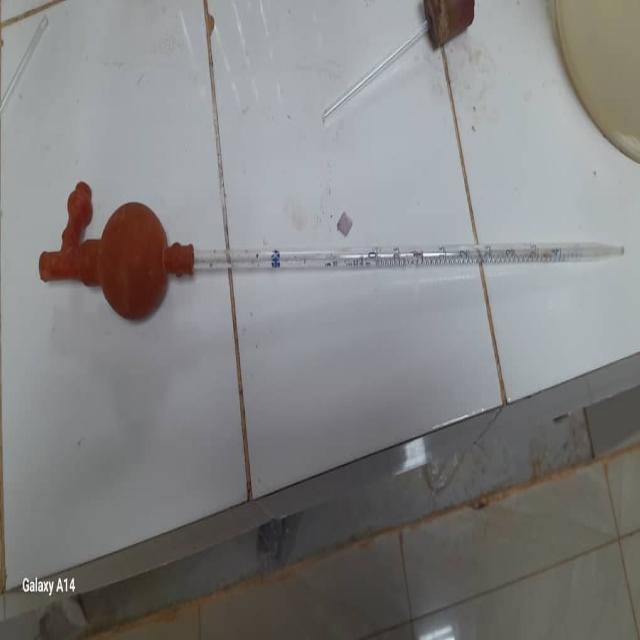Droppers: (17, 185, 632, 325)
